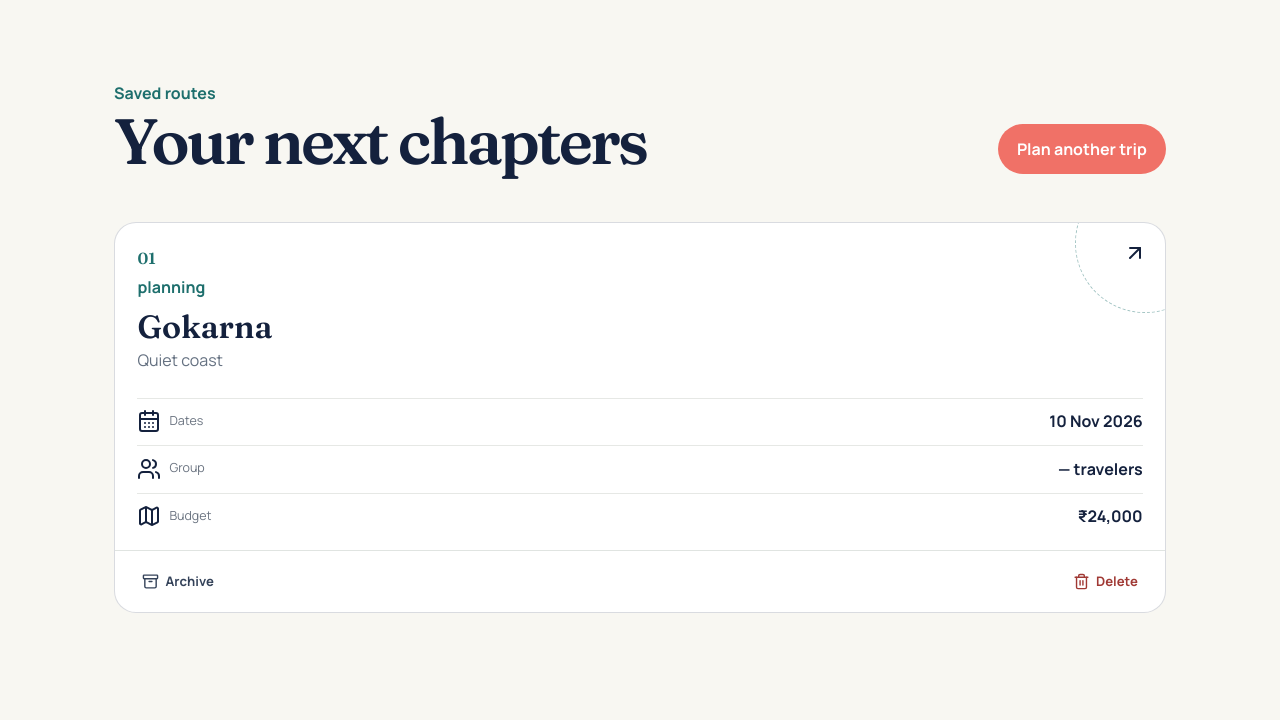
Test: dashboard trip actions › requires confirmation before permanently deleting a trip
Step 1. Click the button with aria-label "Delete Quiet coast" → click(1105, 582), box [1061,563,1149,601]
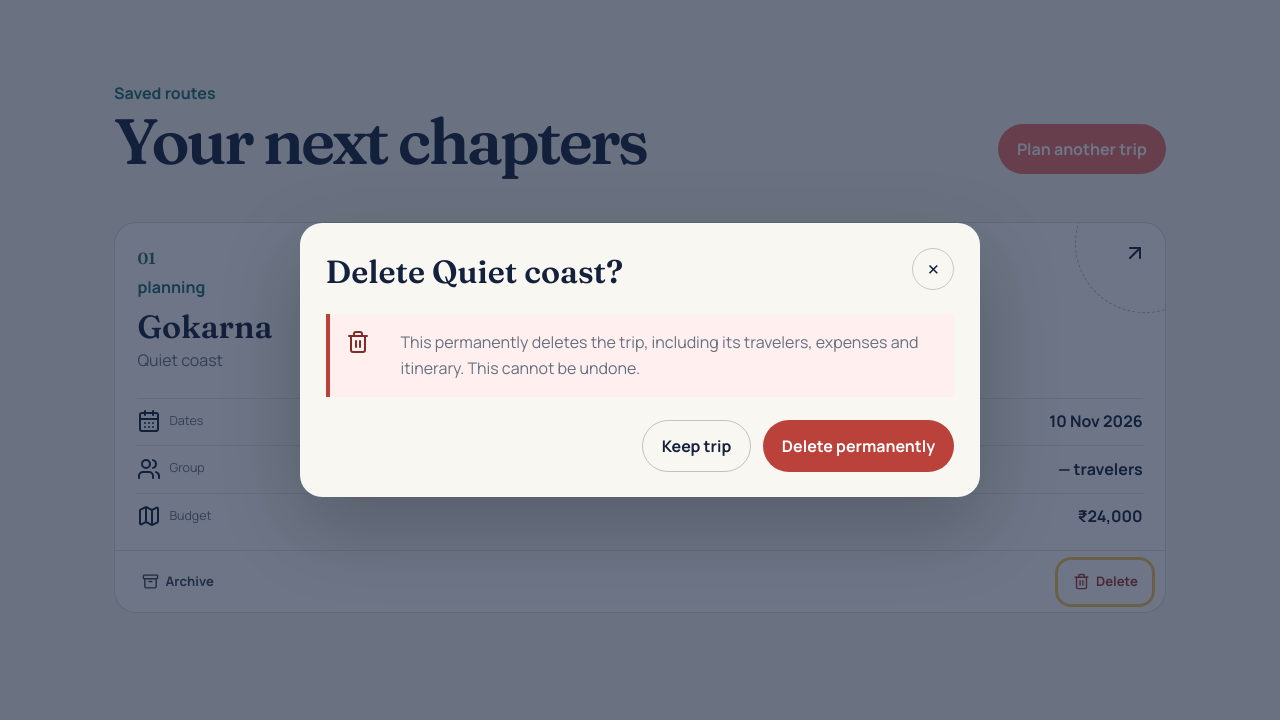
Now the dialog "Delete Quiet coast?" shows "expenses and itinerary", box [400,331,918,379]
Step 2. Click the button "Delete permanently" → click(858, 446), box [763,420,954,472]
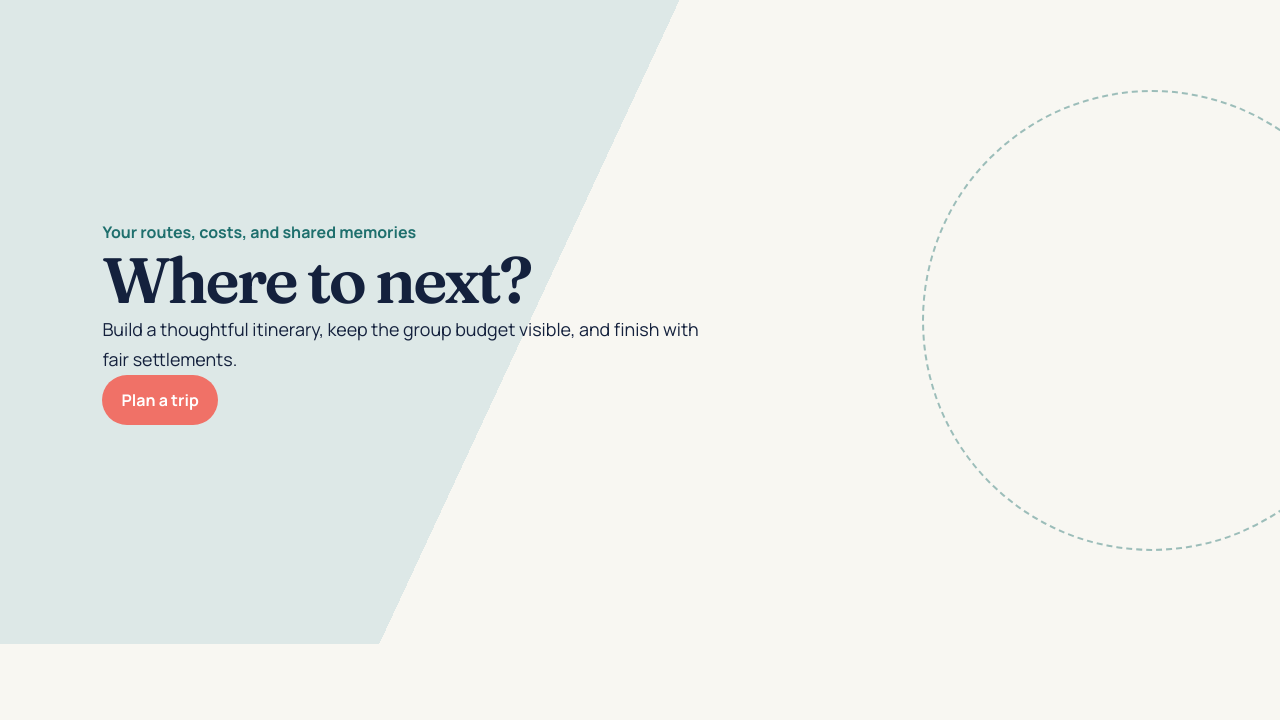
Now the heading "Where to next?" is shown, box [102,246,530,314]
